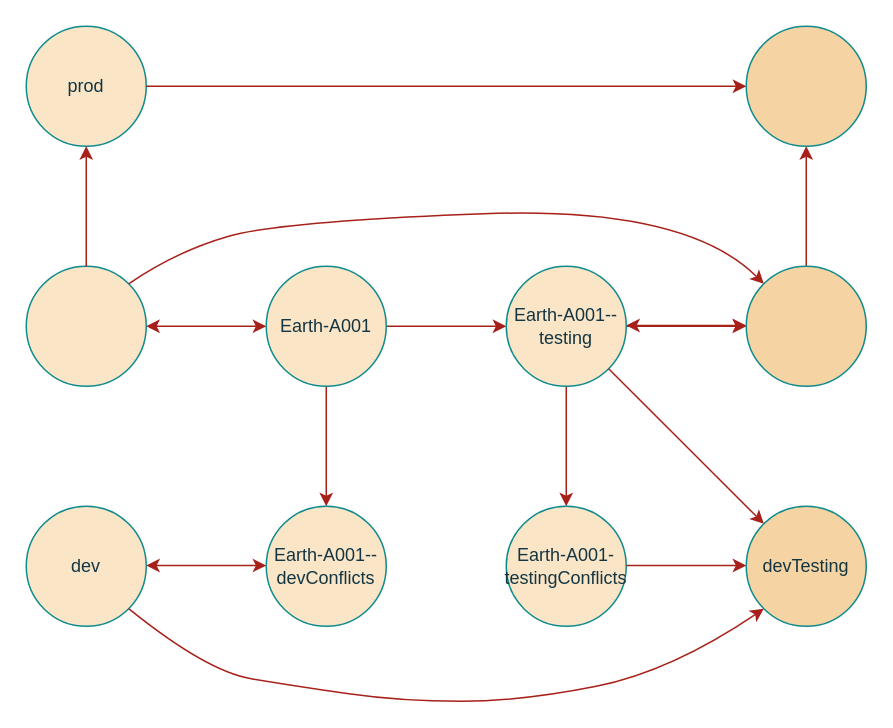
Image size: 893x728. Some labels were removed from this diagram. The shapes that lost their labels are listed below. From the top down, each one's centre as x and y in pixels, then its label:
At (805,85): "prod Testing".
At (85,325): "stage".
At (805,325): "stageTesting".
